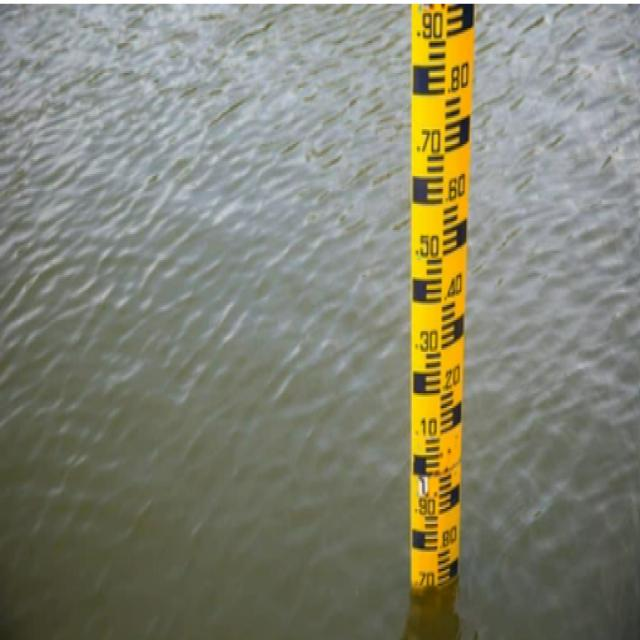ruler: (400, 0, 477, 612)
value: (444, 57, 473, 98), (412, 229, 445, 265), (412, 123, 444, 159), (412, 10, 445, 41), (444, 168, 470, 205), (411, 326, 441, 358), (442, 270, 466, 305), (411, 412, 441, 440), (441, 360, 464, 392), (439, 524, 462, 552), (413, 495, 438, 517), (418, 475, 430, 498)
